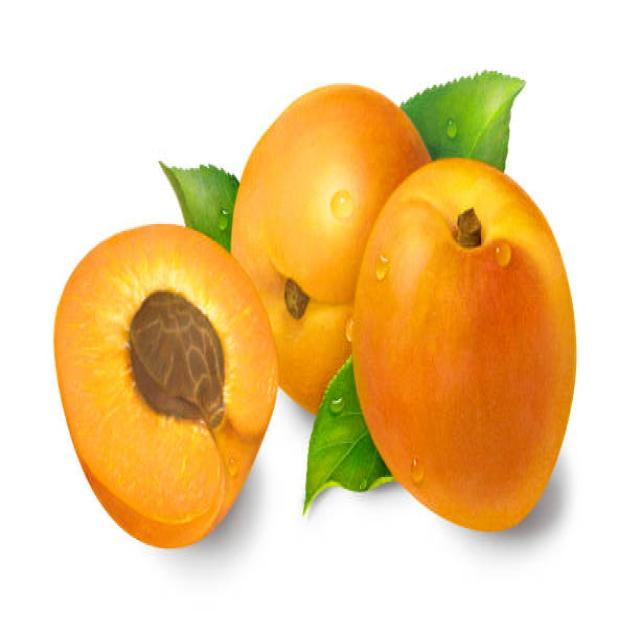kayisi: (348, 173, 578, 541)
kayisi-cekirdegi: (132, 289, 236, 445)
kayisi-yapragi: (410, 61, 530, 162), (160, 136, 240, 226)
